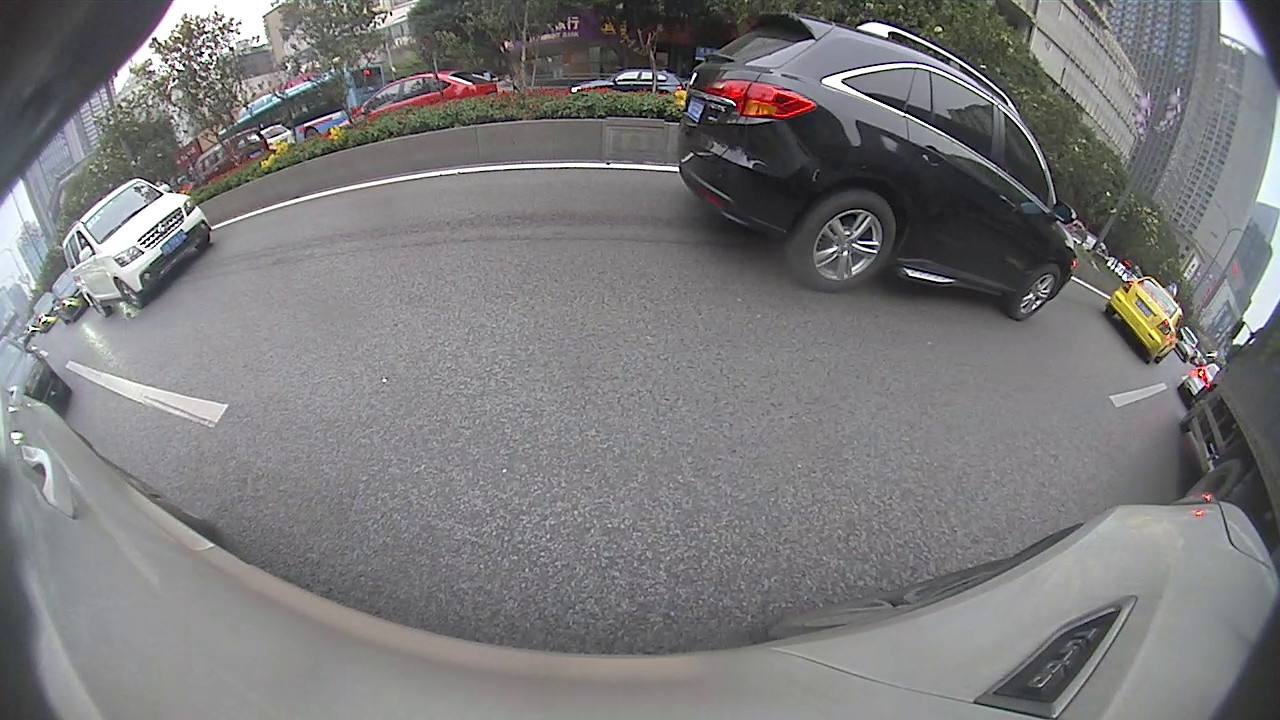car: (678, 11, 1075, 323), (59, 177, 210, 322), (1108, 273, 1186, 364)
front: (1011, 261, 1059, 321), (116, 278, 143, 309)
rear: (793, 189, 897, 291)
